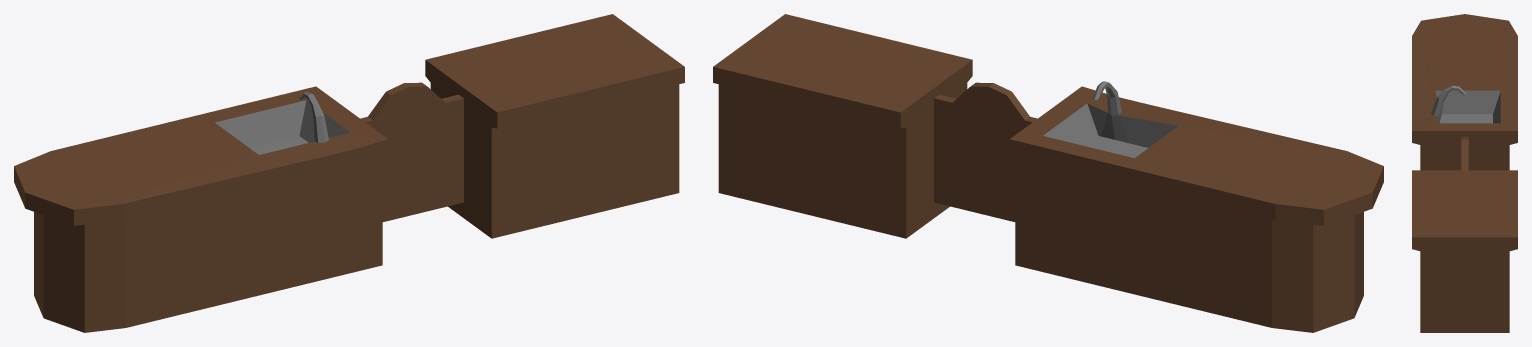
The model's file is bar.fbx.
The picture shows the model from 3 angles, left to right: view 1: azimuth 30°, elevation 25°; view 2: azimuth 150°, elevation 25°; view 3: azimuth 270°, elevation 25°; orthographic projection. The views are drawn at different scales.
Visible parts, largest first — view 1: bar, deur2, deur1; view 2: bar, deur2, deur1; view 3: bar, deur2.
Boxes of the visible parts, box(x1,y1,x2,y2) form: bar: box(14, 14, 684, 332); deur2: box(404, 82, 463, 215); deur1: box(360, 83, 409, 221); bar: box(713, 14, 1383, 332); deur2: box(934, 82, 993, 215); deur1: box(988, 83, 1037, 221); bar: box(1412, 14, 1517, 332); deur2: box(1461, 140, 1468, 170).
Size of the model in its own units: 1007 by 259 by 202.
